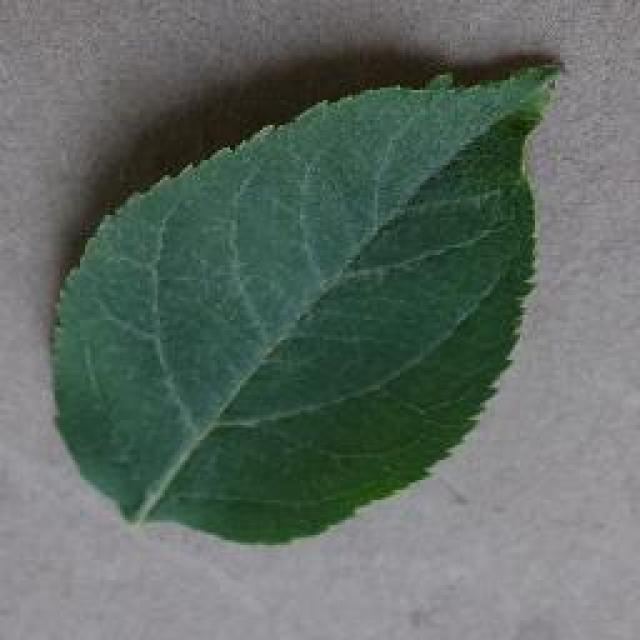apple healthy: (45, 50, 563, 548)
